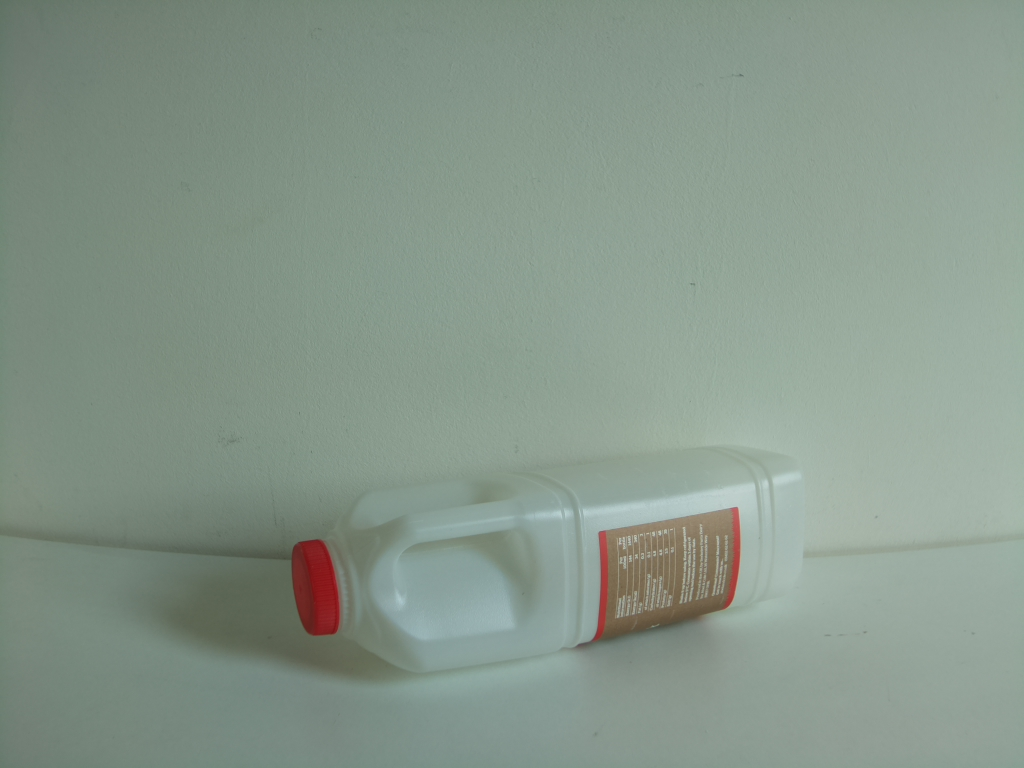milk: (294, 442, 815, 675)
